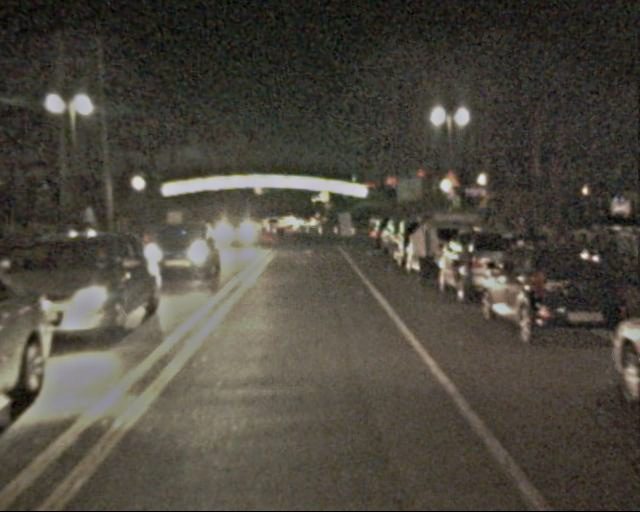person: (406, 215, 442, 304)
